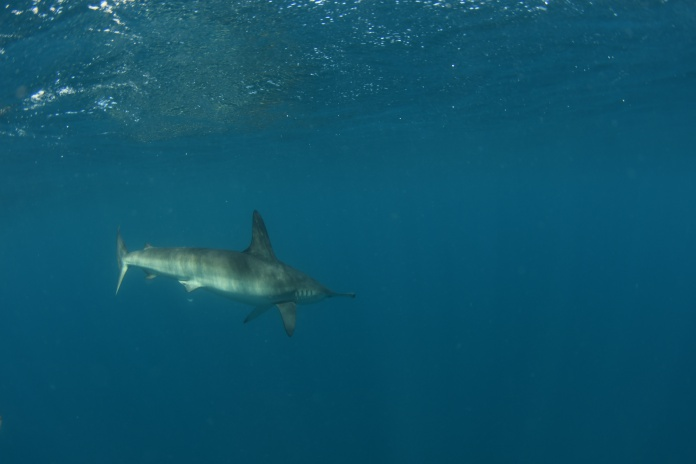Hammer: (102, 207, 369, 353)
